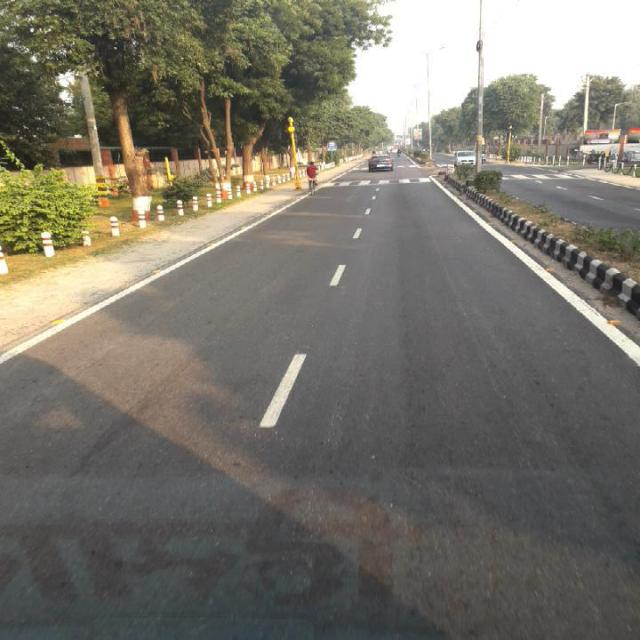pothole: (429, 222, 524, 449)
